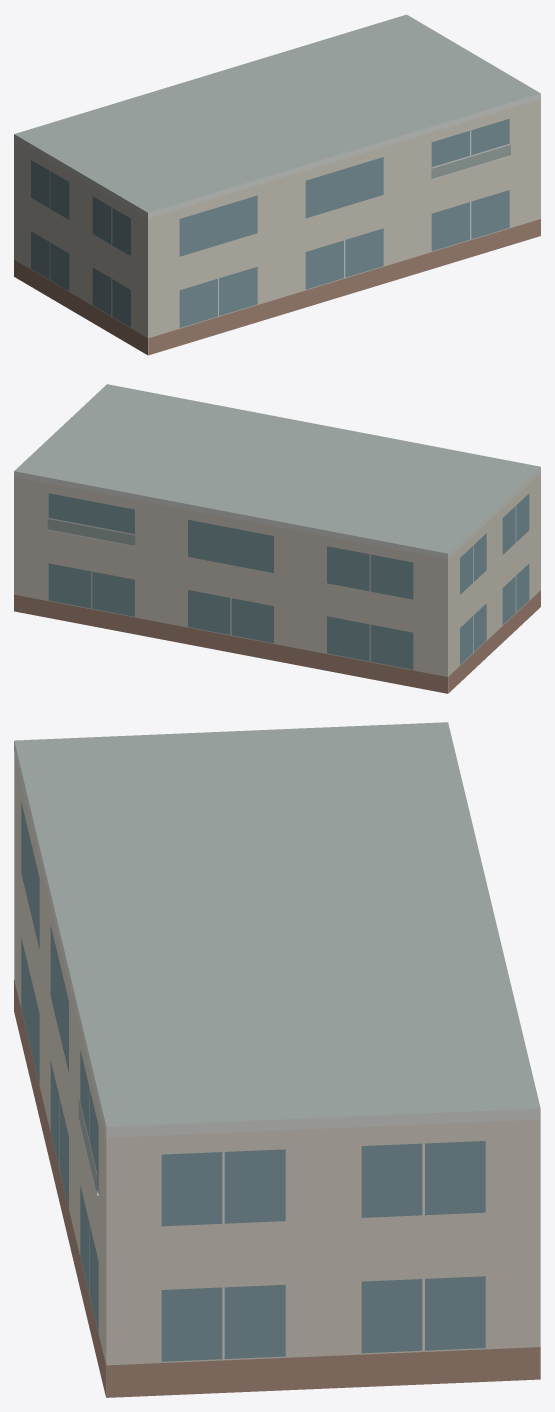
File: survey-upis-32625745.glb
3 renders of one model, top to bottom at view 1: azimuth 30°, elevation 25°; view 2: azimuth 150°, elevation 25°; view 3: azimuth 270°, elevation 25°, orthographic. The views are drawn at different scales.
Parts seen in each view (by area): view 1: survey-upis-32625745.tmp; view 2: survey-upis-32625745.tmp; view 3: survey-upis-32625745.tmp.
Part boxes in pixels (x1=…): survey-upis-32625745.tmp: x1=14, y1=14, x2=540, y2=355; survey-upis-32625745.tmp: x1=14, y1=384, x2=540, y2=693; survey-upis-32625745.tmp: x1=14, y1=722, x2=540, y2=1397.
Size of the model in its own units: 19.57 by 6.1 by 10.76.
